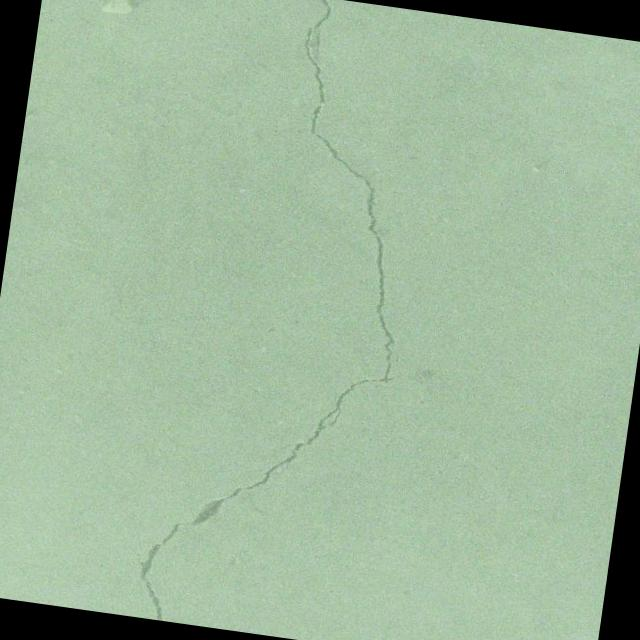crack: (81, 0, 540, 640), (481, 372, 633, 423), (0, 550, 87, 576)
